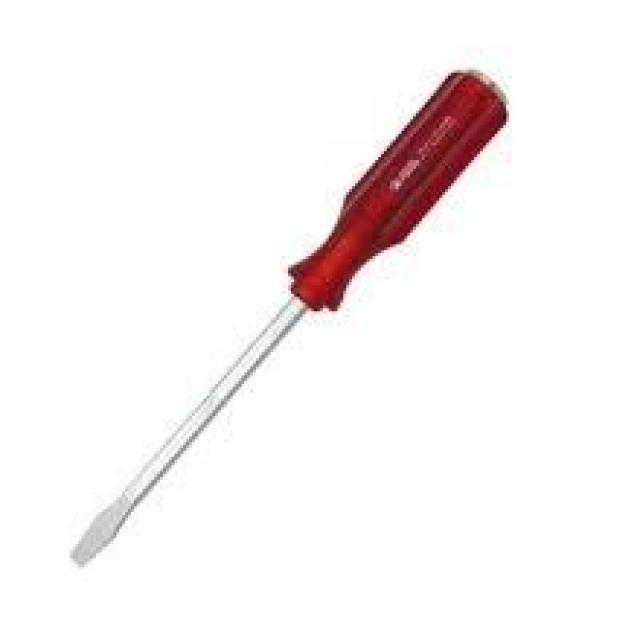screwdriver: (67, 67, 512, 570)
